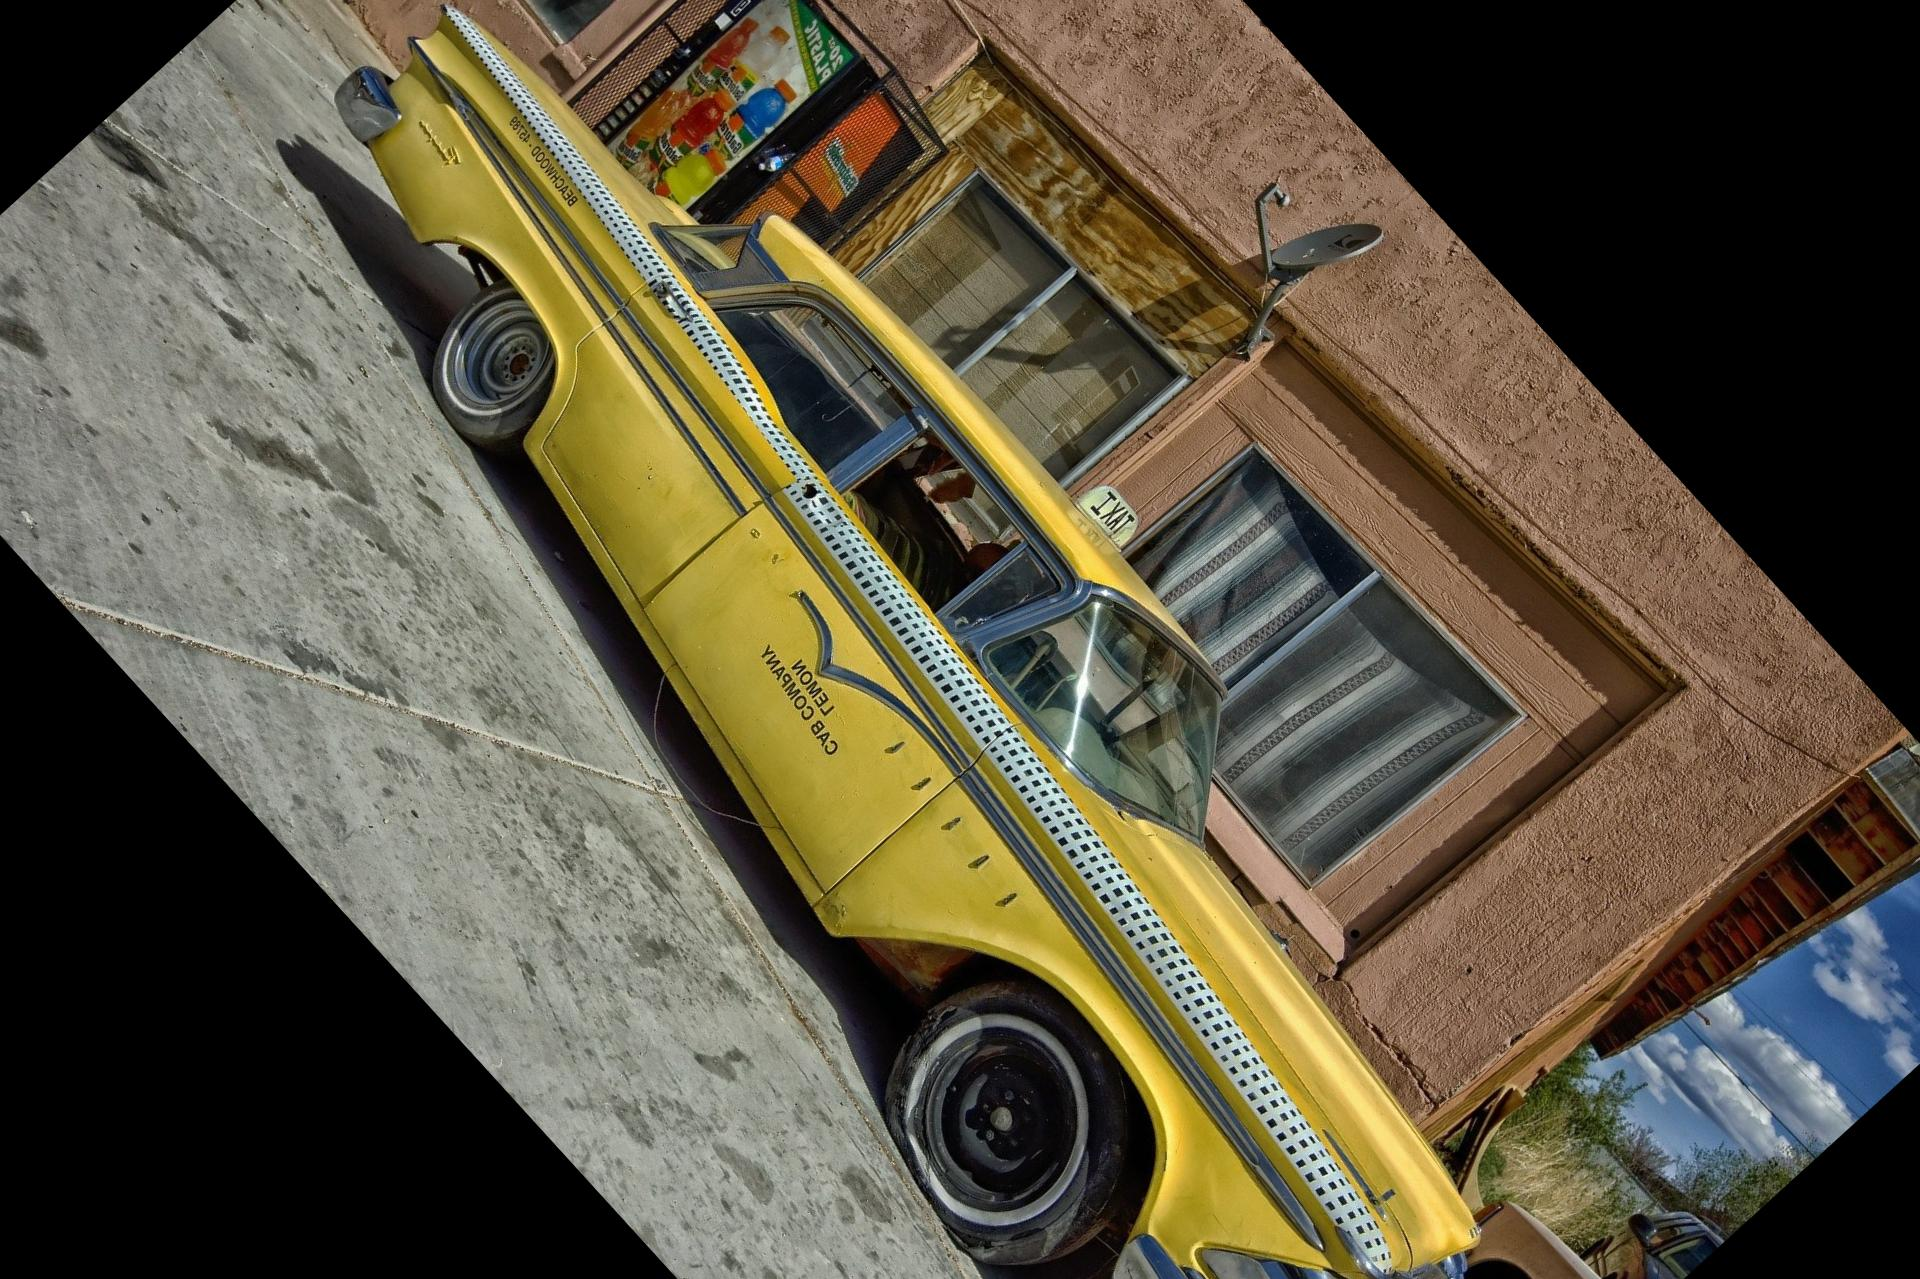taxi: (333, 23, 1476, 1256)
